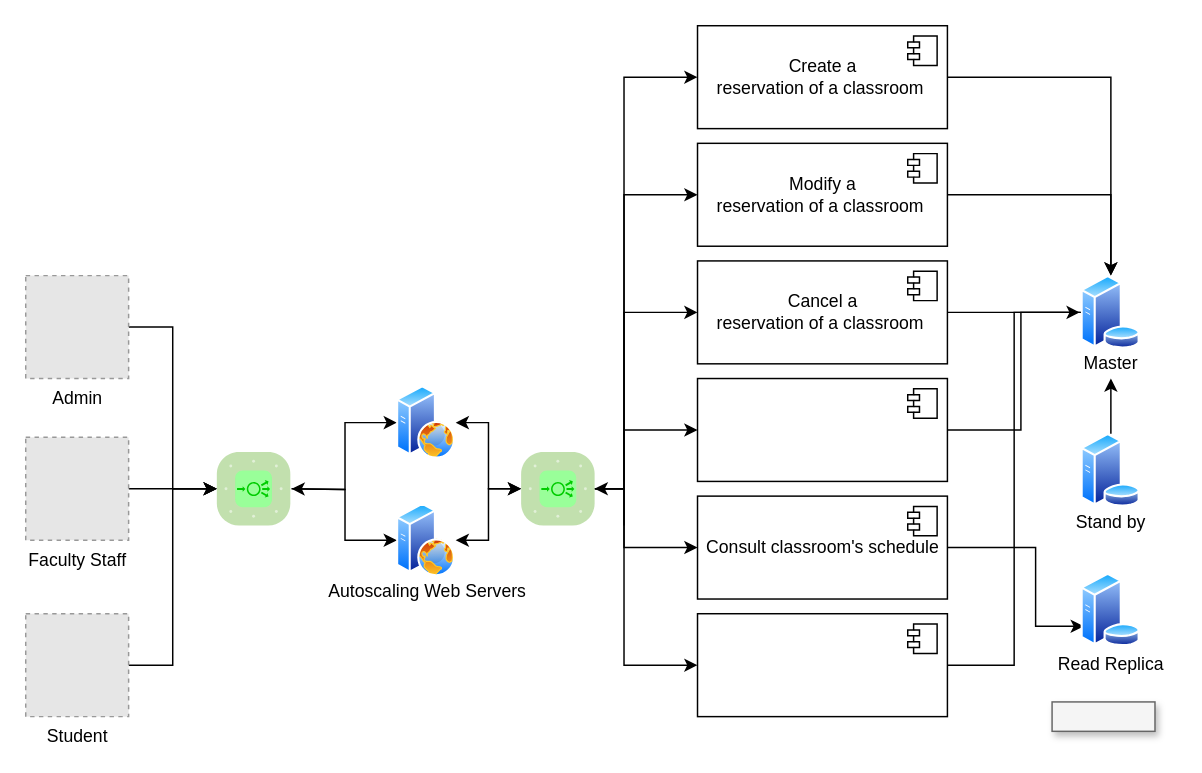
Image size: 1202x773. Some labels were removed from this diagram. Grey dashed boxes stand in for pictures. The centre of each missing label's shape, as x and y in pixels:
"Login to platform (User management)" goes at point (821, 429).
"Request booking of a classroom" goes at point (821, 664).
"Serverless" goes at point (1104, 718).
